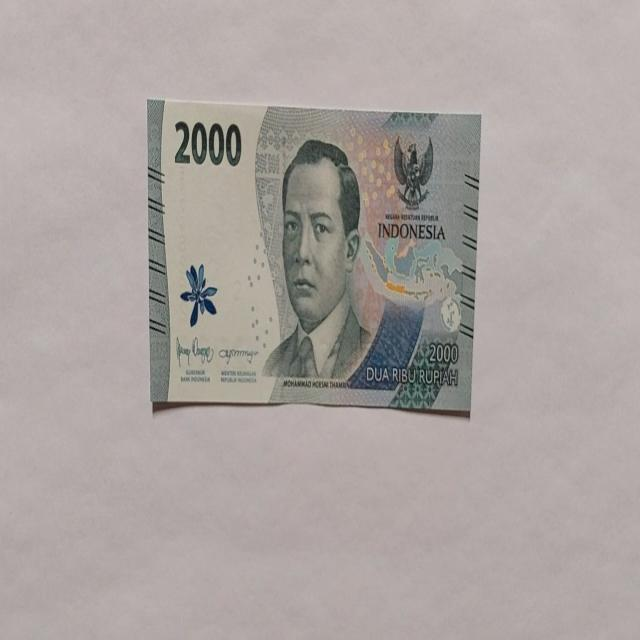dua ribu rupiah: (147, 98, 481, 414), (261, 138, 375, 384)
